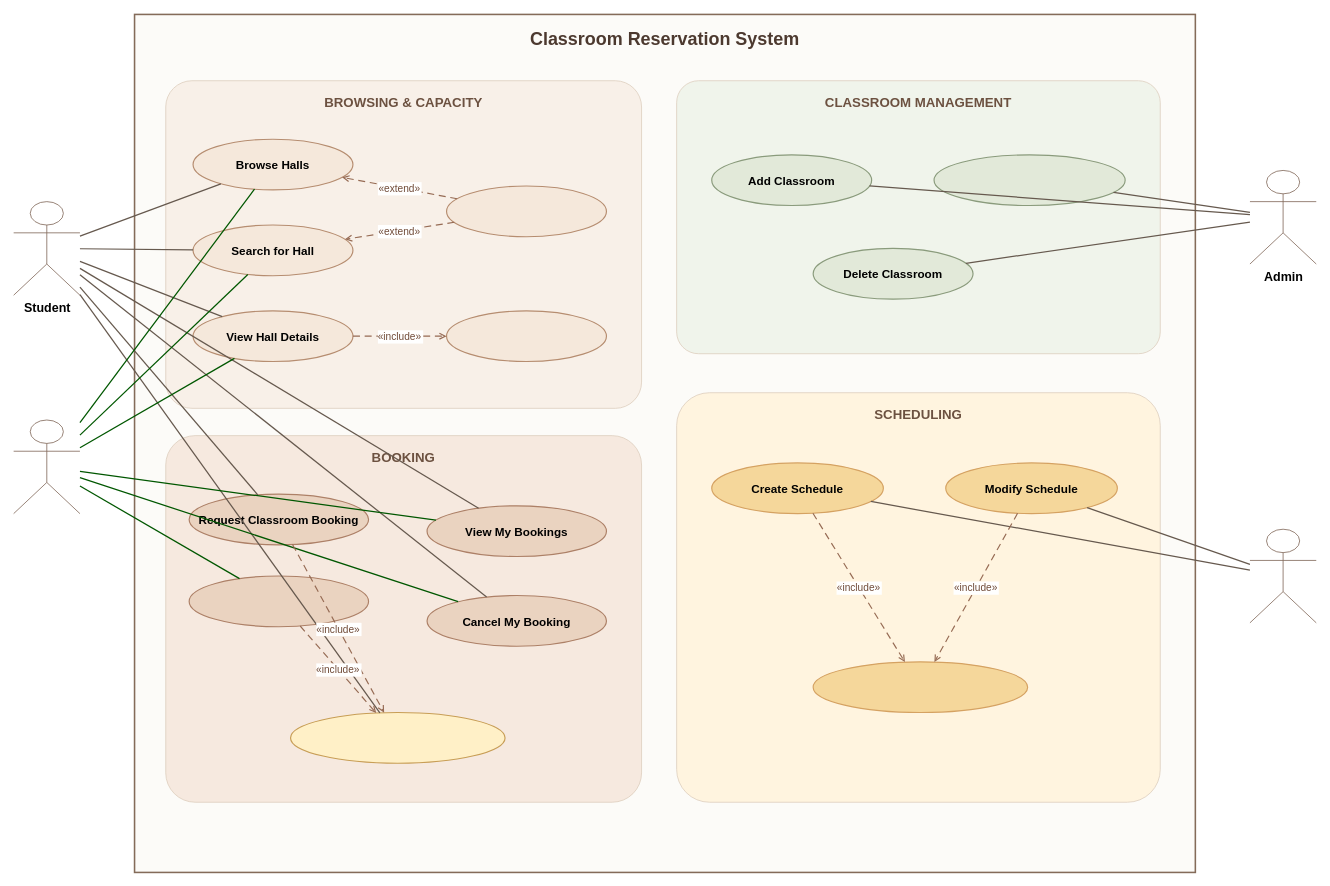
The diagram is 1330 pixels wide and 886 high, and some of its shapes have lost their labels. The shapes that lost their labels are listed below. From the top down, each one's centre as x and y in pixels, then its label:
point (1029, 180): Update Classroom Details
point (526, 211): Filter Halls
point (526, 336): View Hall Capacity
point (46, 466): Professor
point (1282, 575): Scheduler
point (278, 601): Book Classroom
point (920, 687): Check Schedule Conflict
point (397, 737): Check Classroom Availability
